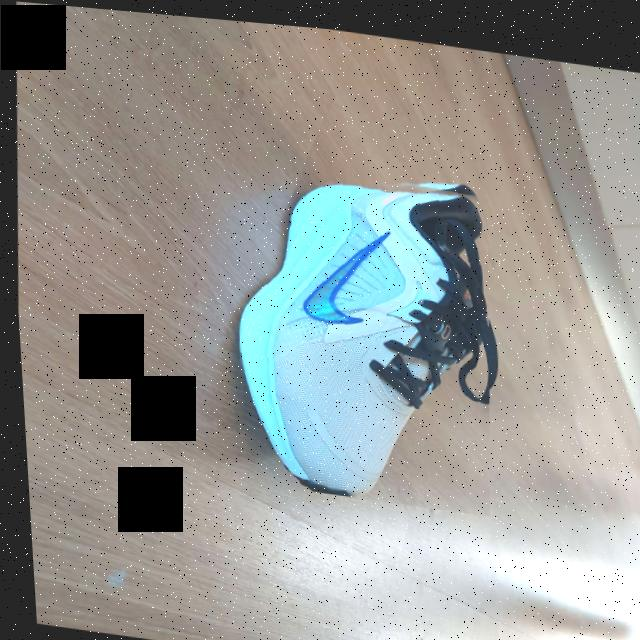shoe: (217, 145, 502, 510)
